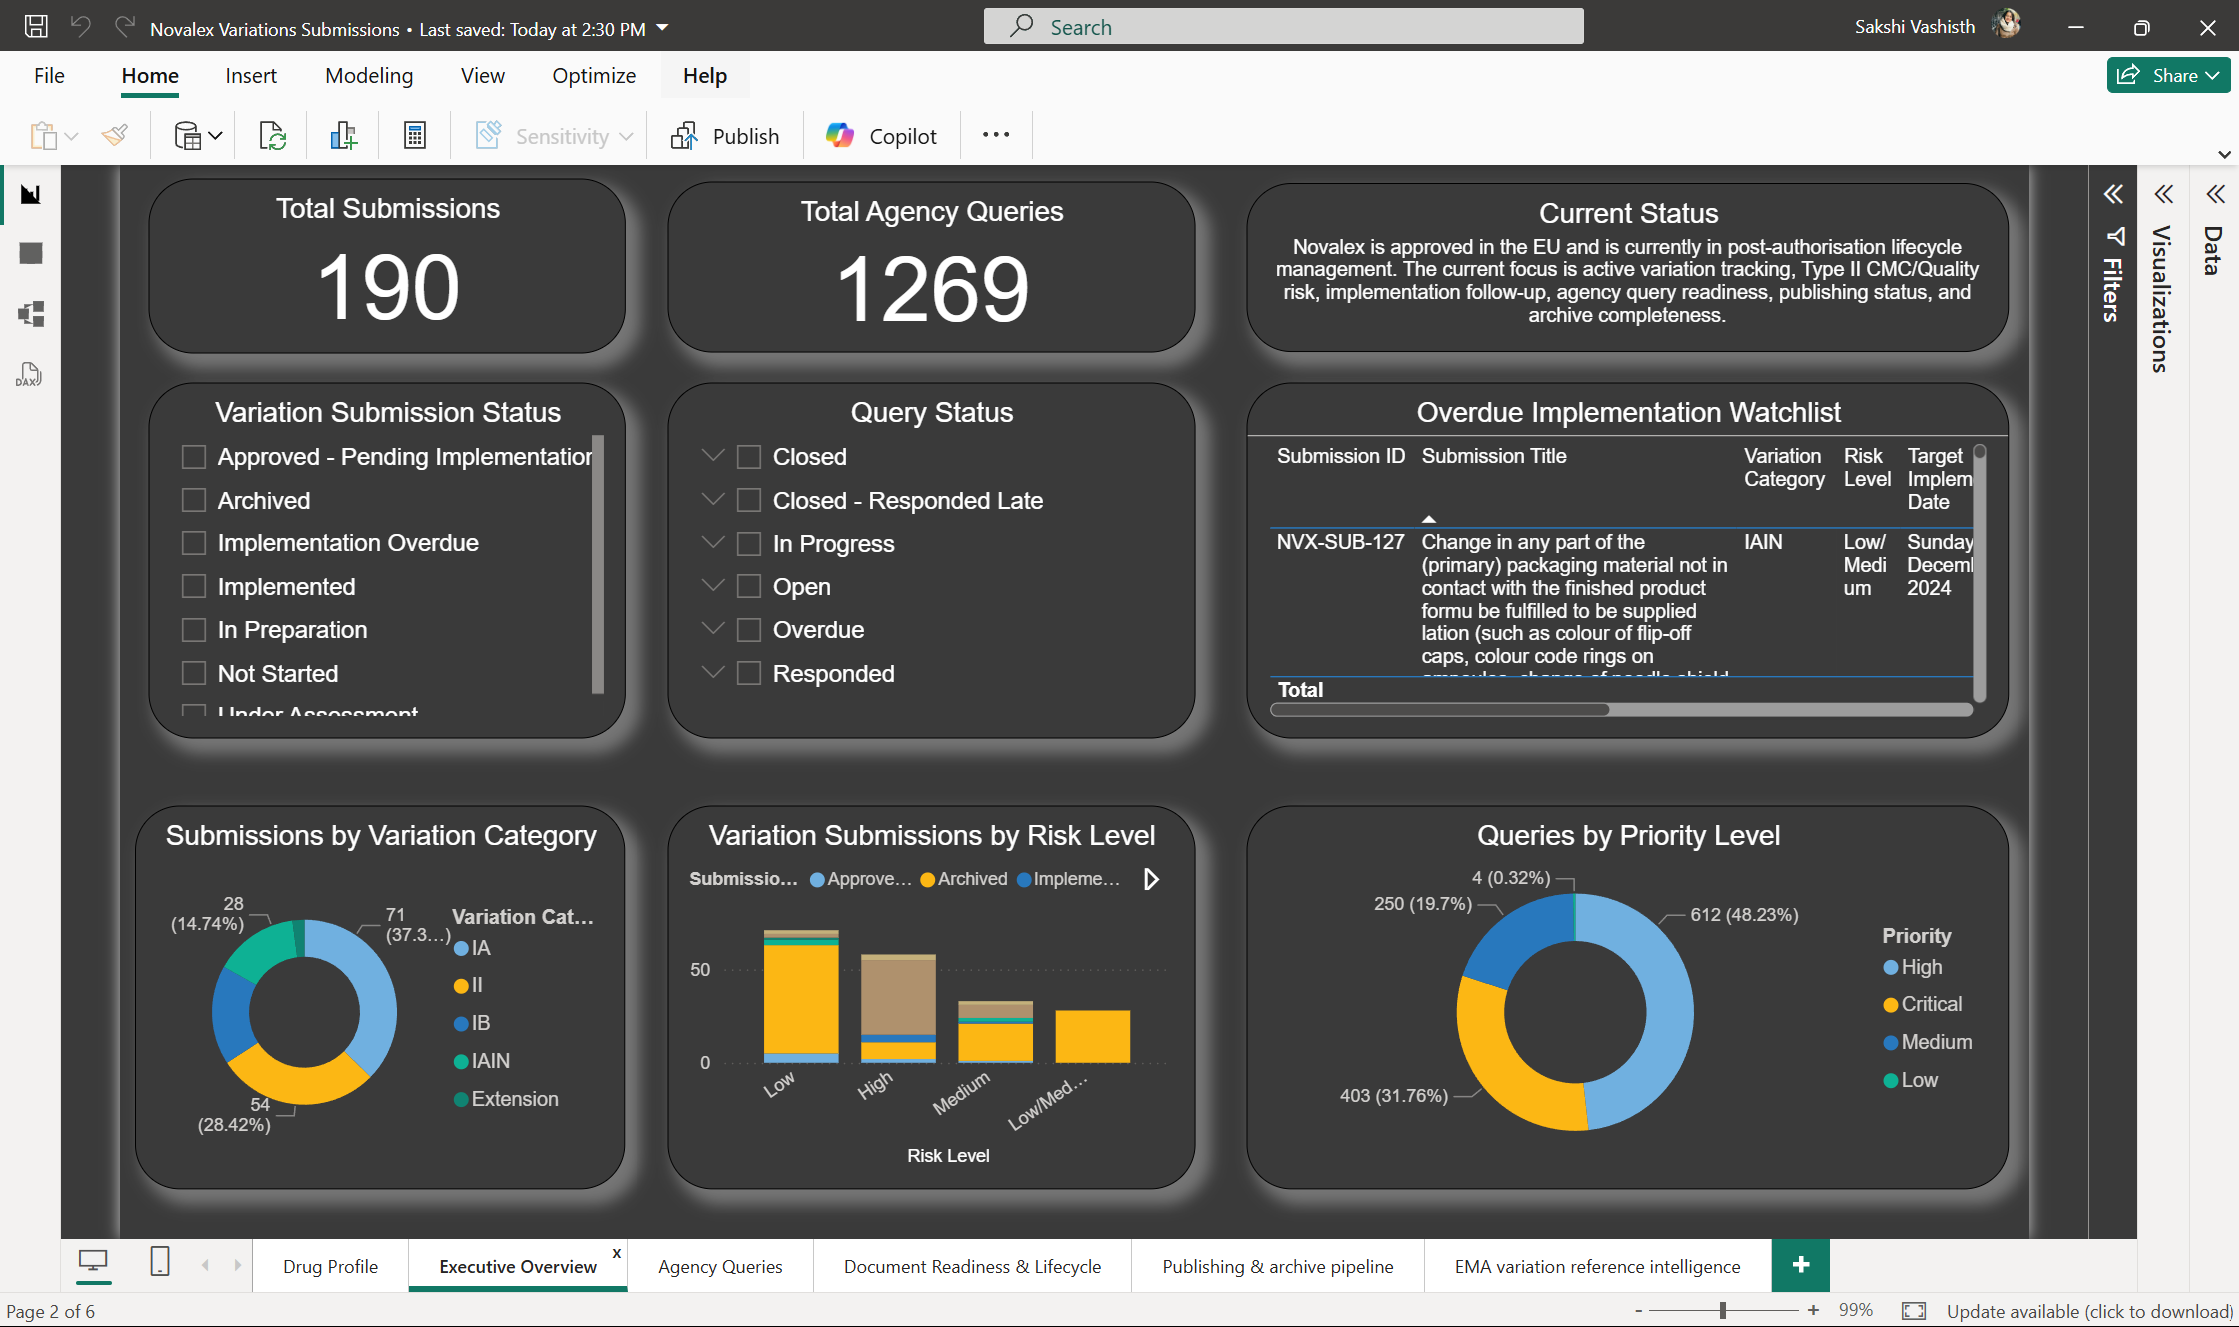

Layout of this report page (visuals, bound fields, positions):
{"tool":"powerbi","page":{"name":"Executive Overview","canvas":[1280,720],"ordinal":1},"visuals":[{"type":"card","title":"Total Submissions","fields":{"Values":["Count(novalex_submission_tracker_upda.Unique Submission ID)"]},"box":[18.6,8.9,320.1,117],"z":0},{"type":"card","title":"Total Agency Queries","fields":{"Values":["Count(novalex_agency_query_tracker_si.Query_ID)"]},"box":[367.1,11.5,353.8,114.4],"z":1000},{"type":"slicer","title":"Query Status","fields":{"Values":["novalex_agency_query_tracker_si.Query_Status","novalex_agency_query_tracker_si.Variation_Category"]},"box":[367.1,146.3,353.8,238.5],"z":2000},{"type":"donutChart","title":"Submissions by Variation Category","fields":{"Category":["novalex_submission_tracker_upda.Variation Category"],"Y":["Count(novalex_submission_tracker_upda.Unique Submission ID)"]},"box":[9.8,429.2,329,257.1],"z":3000},{"type":"columnChart","title":"Variation Submissions by Risk Level","fields":{"Category":["novalex_submission_tracker_upda.Risk Level"],"Y":["CountNonNull(novalex_submission_tracker_upda.Unique Submission ID)"],"Series":["novalex_submission_tracker_upda.Submission Status"]},"box":[367.1,429.2,353.8,257.1],"z":4000},{"type":"slicer","title":"Variation Submission Status","fields":{"Values":["novalex_submission_tracker_upda.Submission Status"]},"box":[18.6,146.3,320.1,238.5],"z":5000},{"type":"textbox","title":"Current Status","box":[755.5,12.4,511.6,113.5],"z":6000},{"type":"tableEx","title":"Overdue Implementation Watchlist","fields":{"Values":["novalex_submission_tracker_upda.Unique Submission ID","novalex_submission_tracker_upda.Submission Title","novalex_submission_tracker_upda.Variation Category","novalex_submission_tracker_upda.Risk Level","novalex_submission_tracker_upda.Target Implementation Date","Sum(novalex_submission_tracker_upda.Days_Since_Target)","novalex_submission_tracker_upda.Functional Owner"]},"box":[755.5,146.3,511.6,238.5],"z":7000},{"type":"donutChart","title":"Queries by Priority Level","fields":{"Category":["novalex_agency_query_tracker_si.Priority"],"Y":["CountNonNull(novalex_agency_query_tracker_si.Query_ID)"]},"box":[755.5,429.2,511.6,257.1],"z":8000}]}

Visuals, with their boxes on the page's 1280x720 design canvas (x1, y1, x2, y2). These are canvas units, not pixel positions in the 2239x1327 screenshot, which may show the page scaled, cropped or inside an application window:
"Total Submissions" card: [19, 9, 339, 126]
"Total Agency Queries" card: [367, 12, 721, 126]
"Query Status" slicer: [367, 146, 721, 385]
"Submissions by Variation Category" donutChart: [10, 429, 339, 686]
"Variation Submissions by Risk Level" columnChart: [367, 429, 721, 686]
"Variation Submission Status" slicer: [19, 146, 339, 385]
"Current Status" textbox: [756, 12, 1267, 126]
"Overdue Implementation Watchlist" tableEx: [756, 146, 1267, 385]
"Queries by Priority Level" donutChart: [756, 429, 1267, 686]
